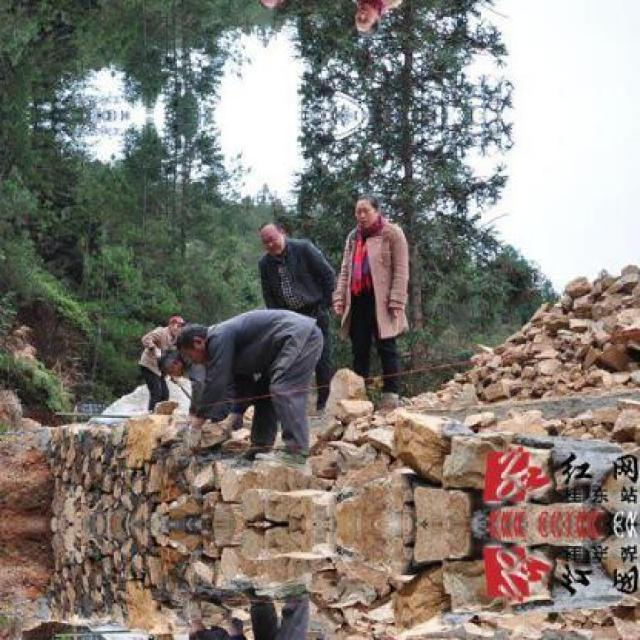nohelmet: (173, 320, 211, 366), (257, 218, 290, 258), (353, 192, 381, 228), (354, 3, 381, 37)
